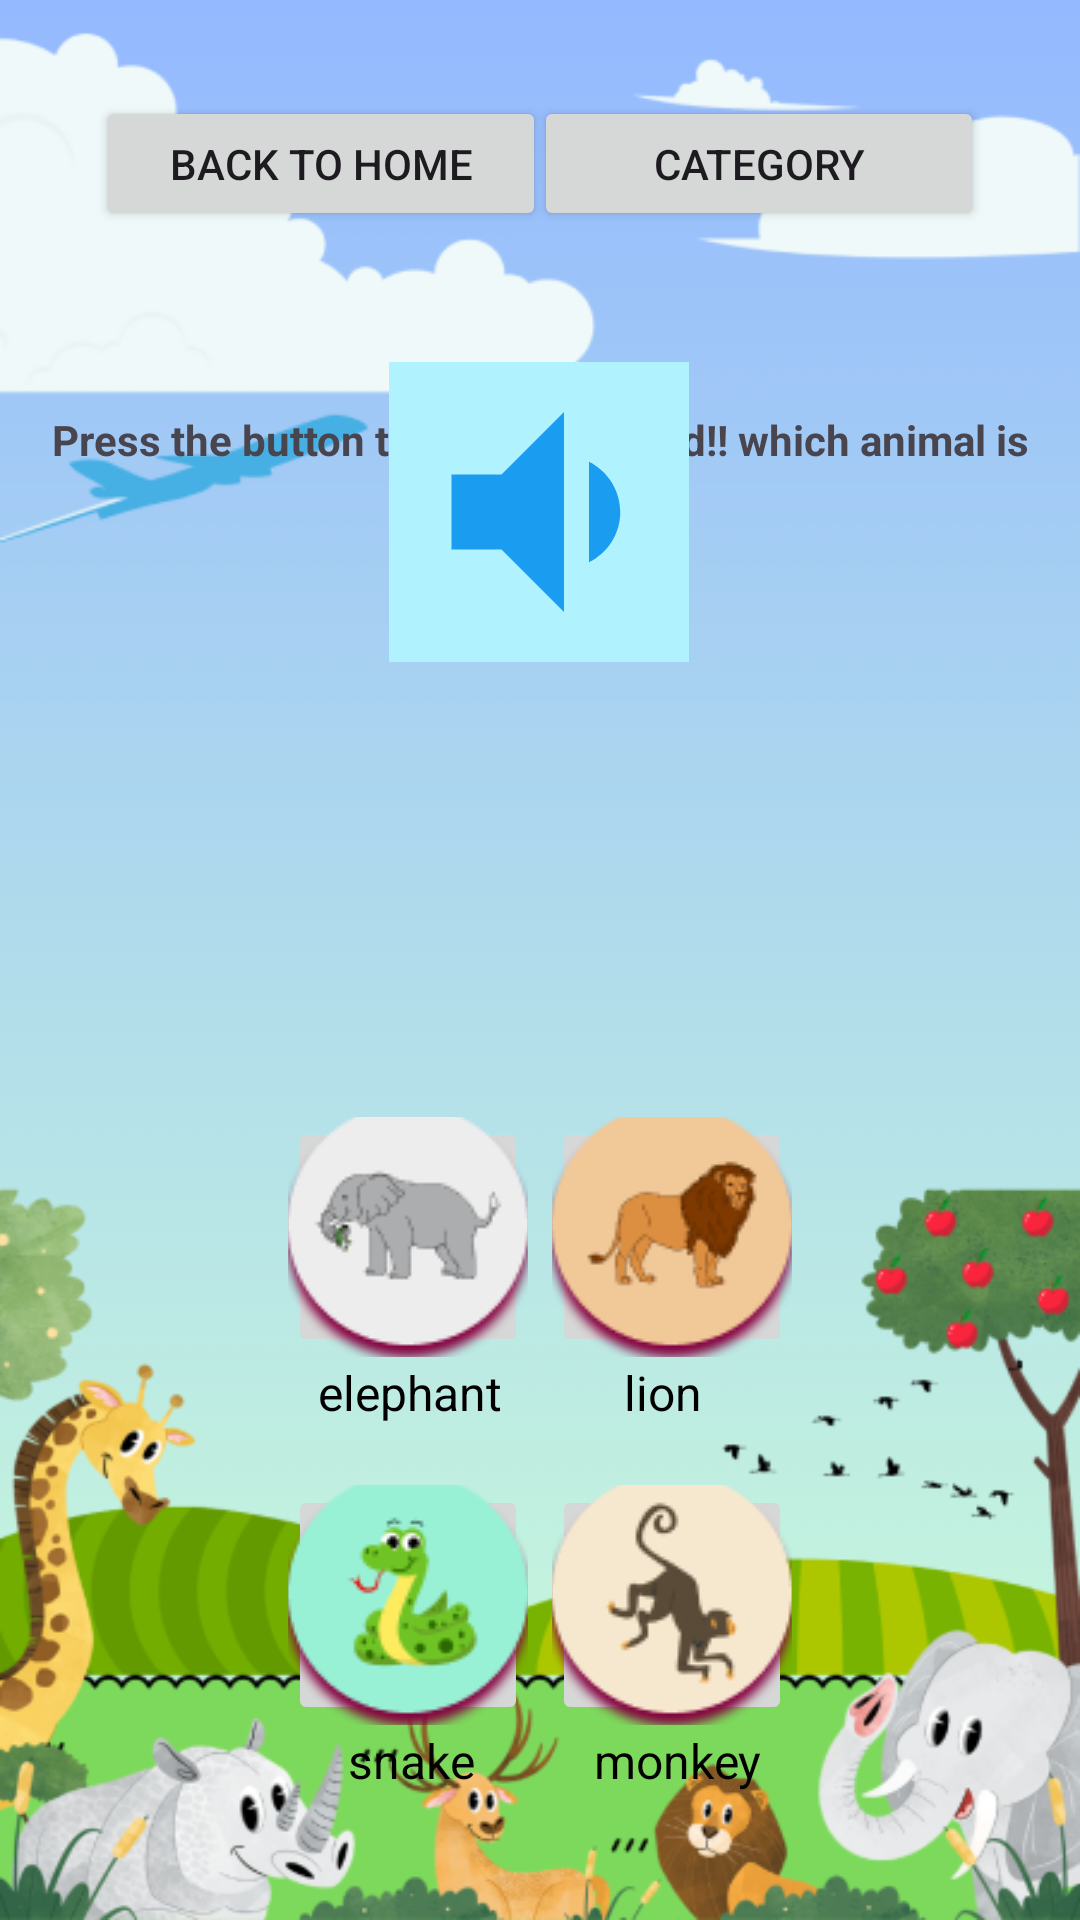

Icons on this 1080*1920 Android screen, each with the point to tap as (x=x, y=y):
volume: (x=539, y=512)
